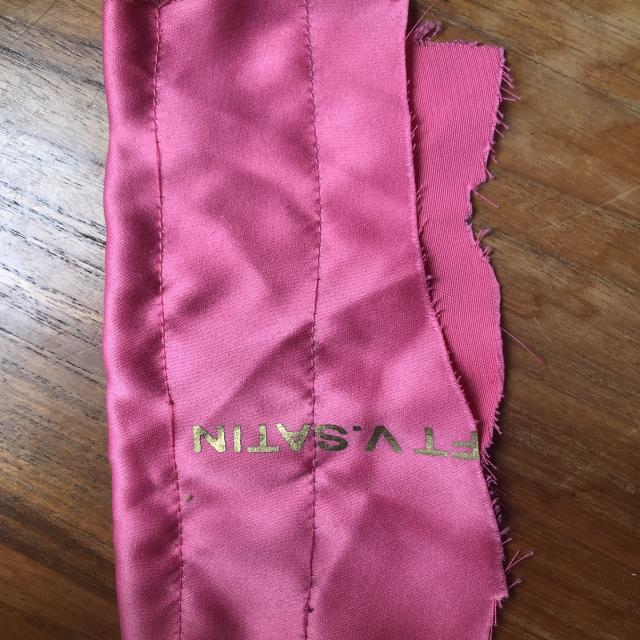skip: (134, 134, 192, 225), (293, 516, 337, 587)
